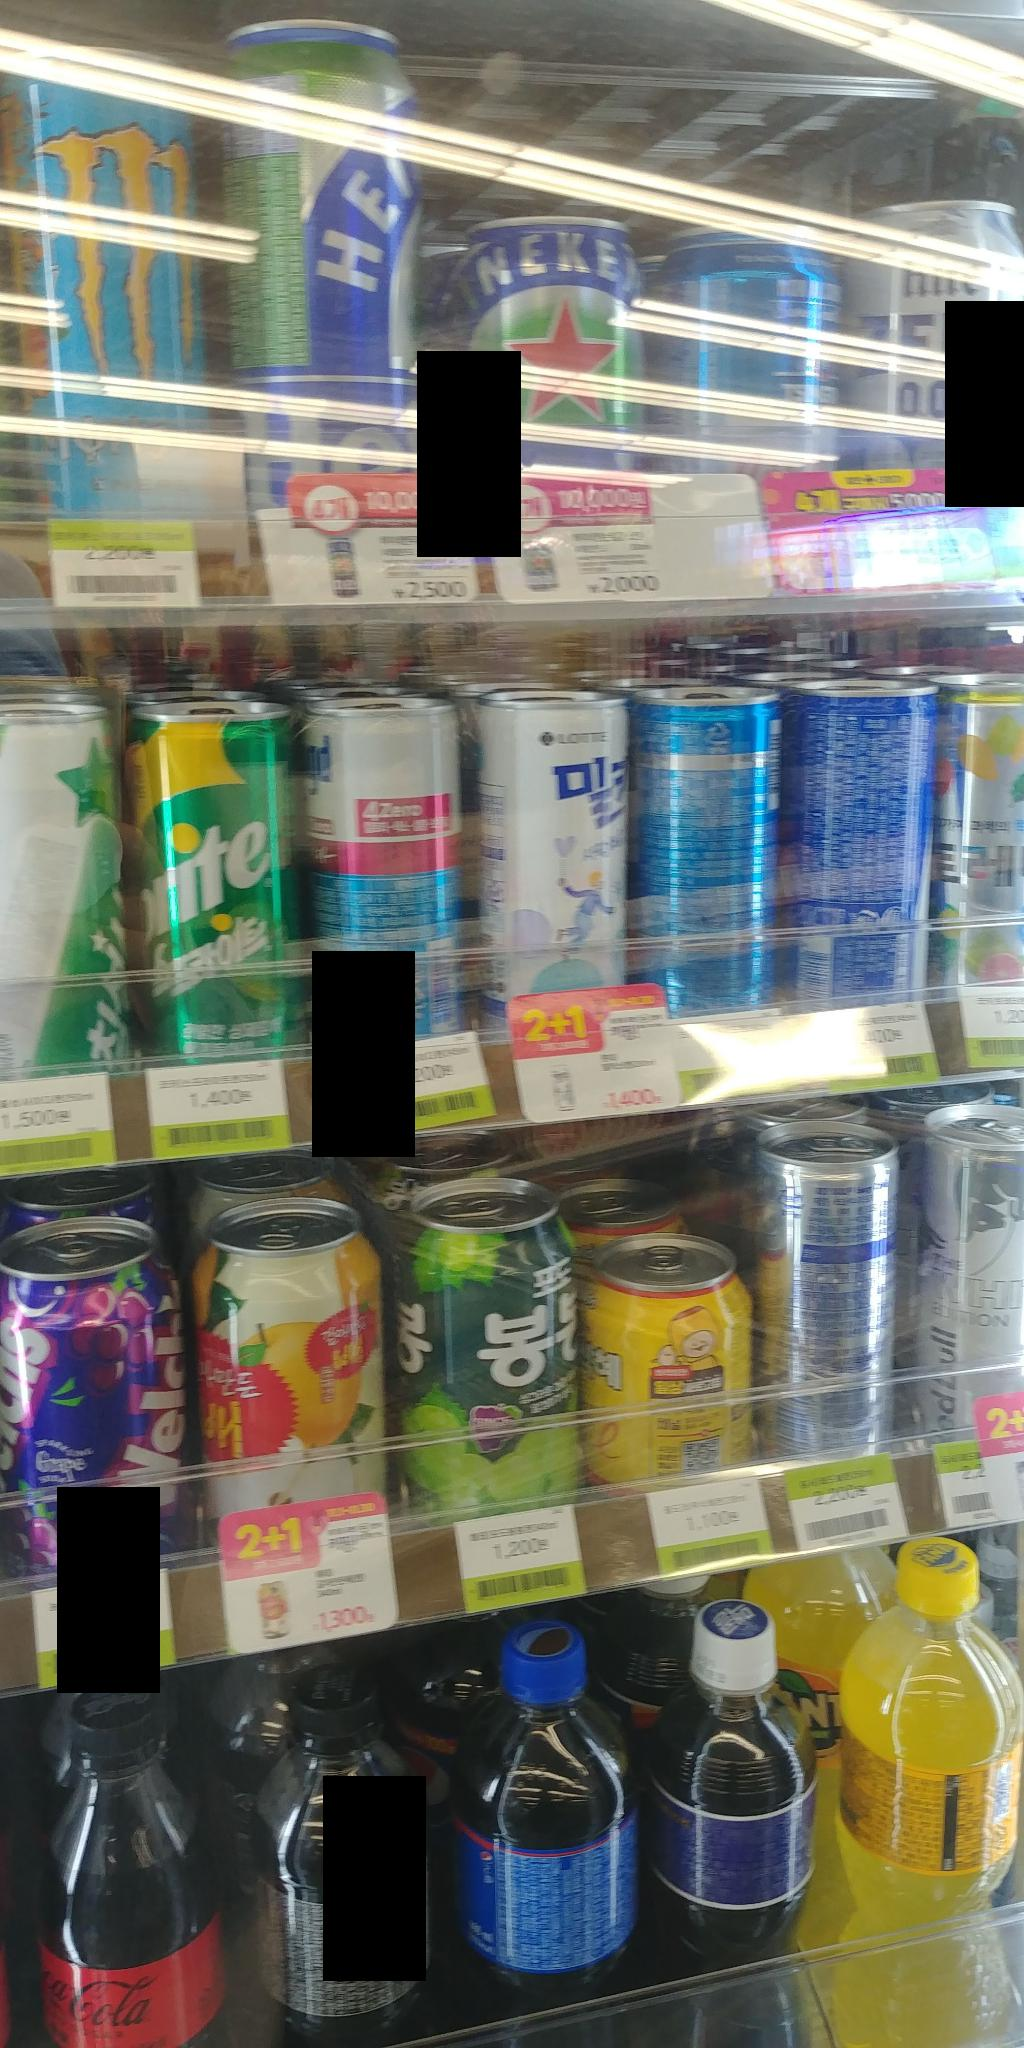narangdcider: (294, 696, 485, 1058)
welchs_grape: (0, 1206, 202, 1574)
